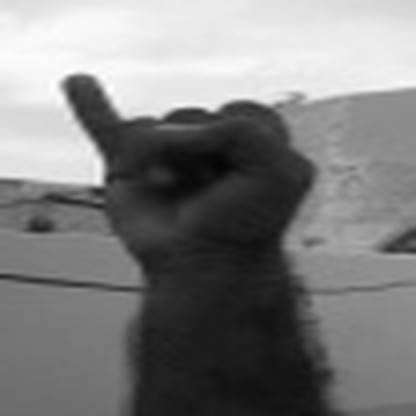i: (48, 62, 325, 268)
